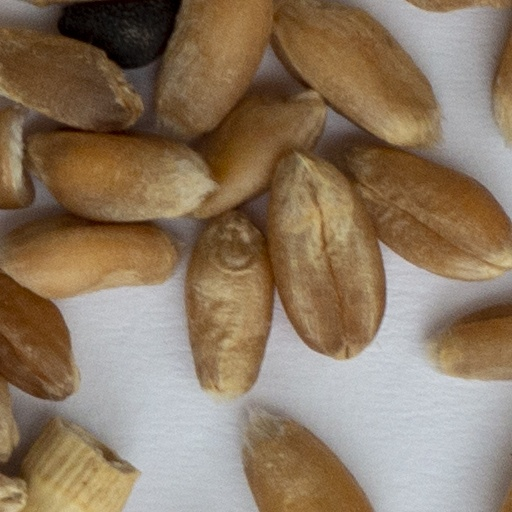Convolvulus-poly: (58, 0, 177, 67)
Peel-poly: (20, 418, 137, 511)
Wheat-grain-damaged-poly: (0, 108, 38, 207)
